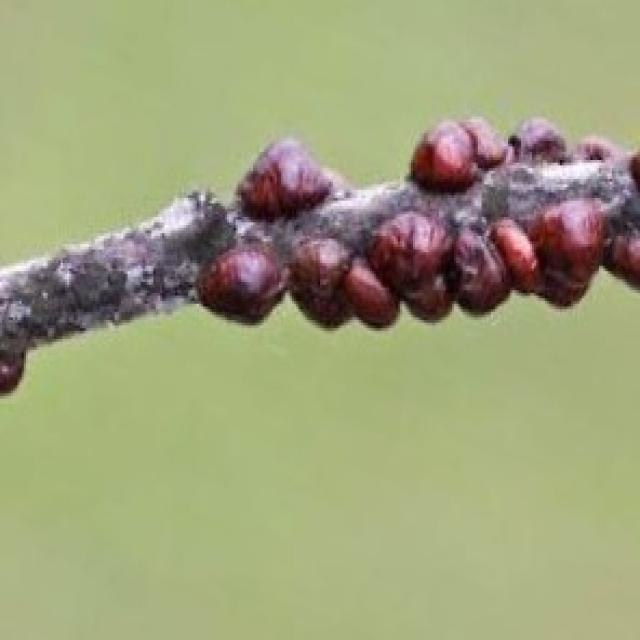BlackScale: (287, 190, 638, 339), (408, 117, 616, 200), (238, 138, 340, 217), (199, 242, 285, 322)
